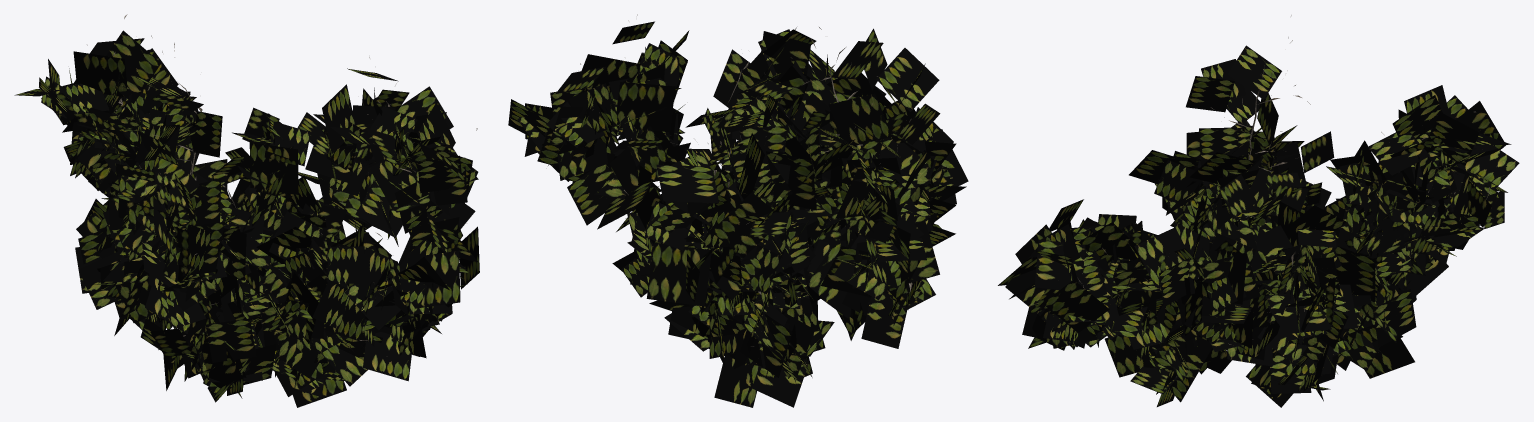
File: tree_island_slim.glb
3 renders of one model, left to right at view 1: azimuth 30°, elevation 25°; view 2: azimuth 150°, elevation 25°; view 3: azimuth 270°, elevation 25°, orthographic. The views are drawn at different scales.
Size of the model in its own units: 2.53 by 2.28 by 3.13.
Materials: 2 (2 with a texture image).
